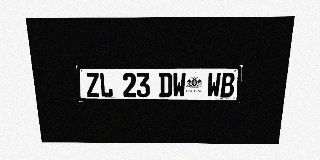2: (122, 72, 136, 97)
3: (136, 72, 150, 97)
B: (220, 72, 235, 97)
D: (159, 72, 172, 97)
L: (99, 72, 113, 97)
W: (172, 72, 186, 97), (207, 72, 221, 97)
Z: (85, 72, 100, 97)
